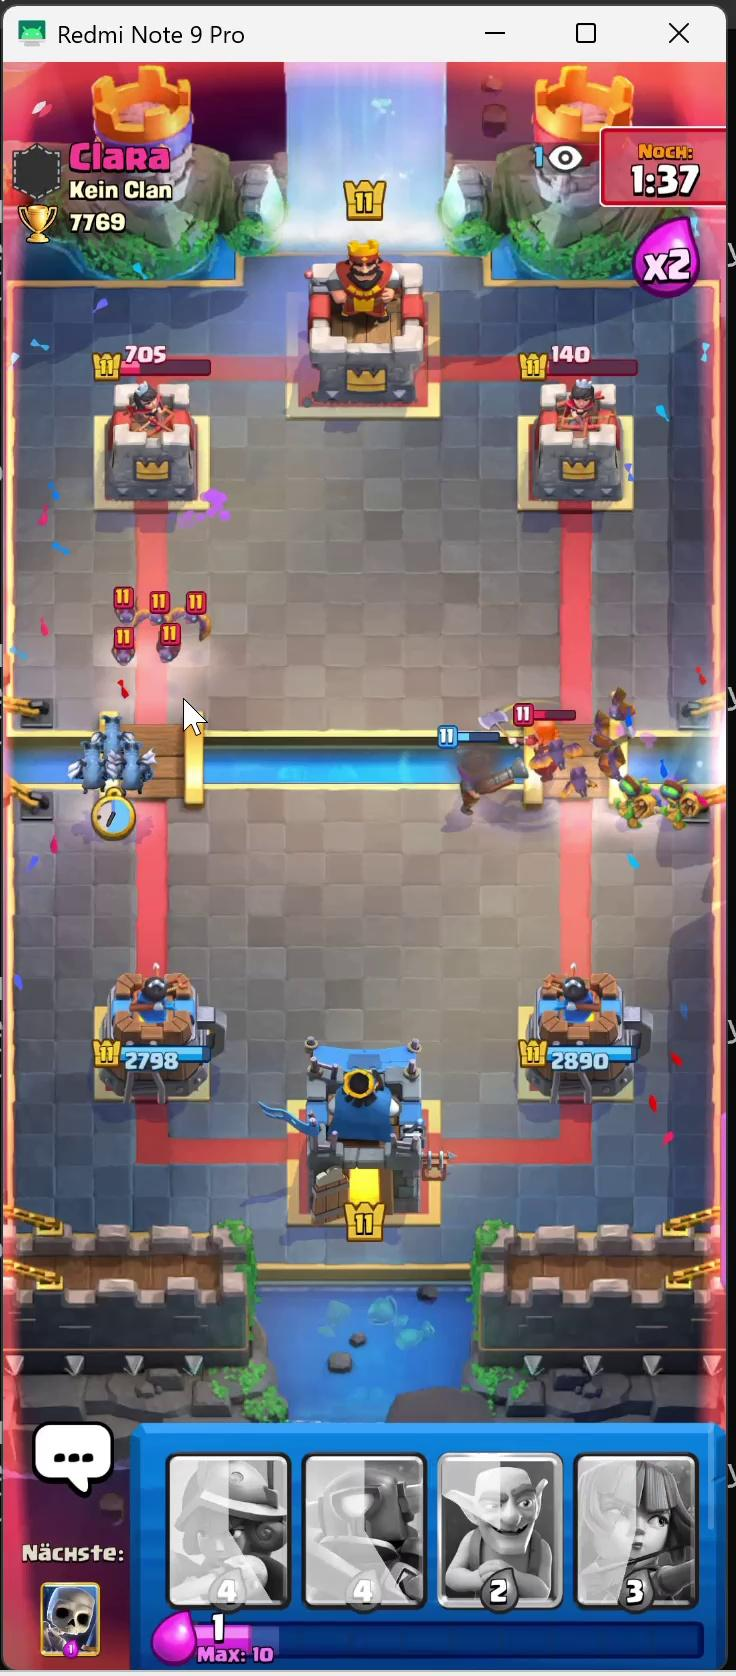bat: (602, 684, 643, 728), (151, 626, 187, 674), (107, 584, 141, 632), (182, 594, 214, 645), (590, 709, 622, 755), (143, 593, 173, 629), (598, 745, 628, 777), (567, 764, 600, 793), (539, 732, 567, 766), (109, 630, 129, 665)
gargouille: (109, 732, 157, 798), (76, 741, 114, 798), (100, 712, 131, 769)
gobelin_lances: (657, 771, 704, 842), (605, 780, 659, 838)
mousquetaire: (456, 733, 497, 817)
valkyrie: (501, 689, 580, 787)
